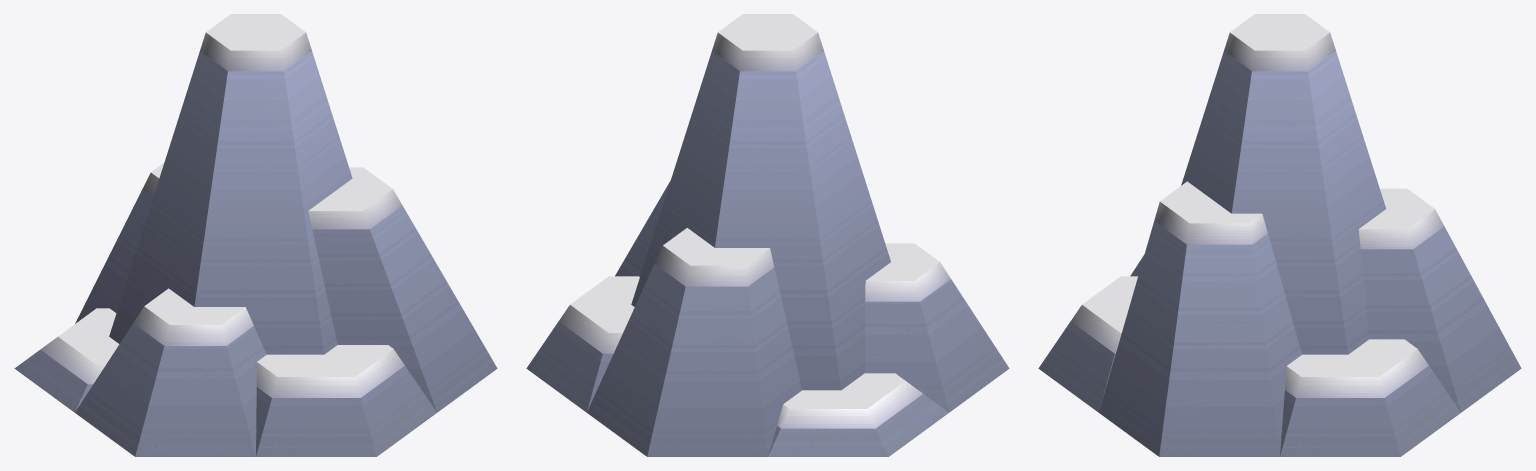
File: mountain.glb
The picture shows the model from 3 angles, left to right: view 1: azimuth 30°, elevation 25°; view 2: azimuth 150°, elevation 25°; view 3: azimuth 270°, elevation 25°; orthographic projection.
Parts seen in each view (by area): view 1: stone-mountain; view 2: stone-mountain; view 3: stone-mountain.
Part boxes in pixels (x1=…): stone-mountain: x1=14, y1=14, x2=497, y2=456; stone-mountain: x1=526, y1=14, x2=1009, y2=456; stone-mountain: x1=1038, y1=14, x2=1521, y2=456.
Bounding box in the file's own units: 1 × 0.8864 × 1.15.
Materials: 1 (1 with a texture image).
